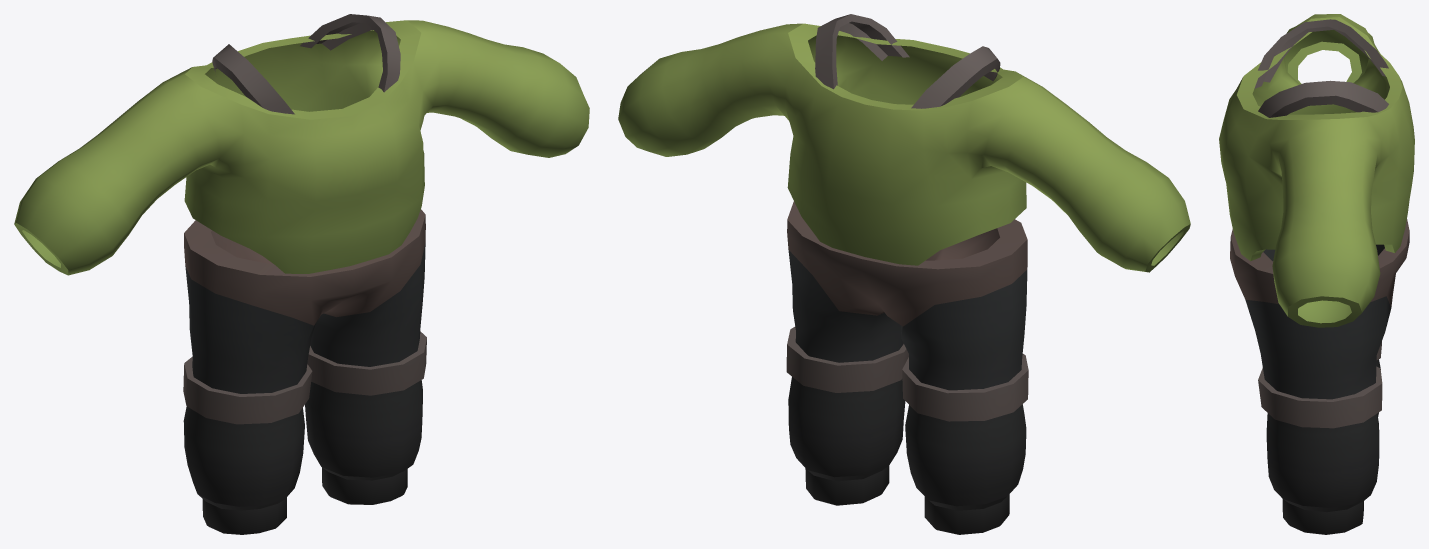
File: Outfit_05.glb
The picture shows the model from 3 angles, left to right: view 1: azimuth 30°, elevation 25°; view 2: azimuth 150°, elevation 25°; view 3: azimuth 270°, elevation 25°; orthographic projection. The views are drawn at different scales.
Parts seen in each view (by area): view 1: Outfit_05; view 2: Outfit_05; view 3: Outfit_05.
Boxes of the visible parts, x1,y1,x2,y2 form: Outfit_05: (14, 14, 589, 534); Outfit_05: (618, 14, 1190, 534); Outfit_05: (1219, 14, 1414, 534).
Size of the model in its own units: 0.6235 by 0.505 by 0.2028.
Materials: 1 (1 with a texture image).
